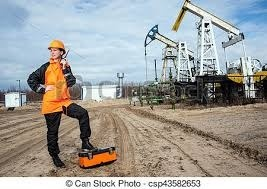helmet: (46, 39, 67, 55)
person with partial safety: (26, 39, 89, 148)
